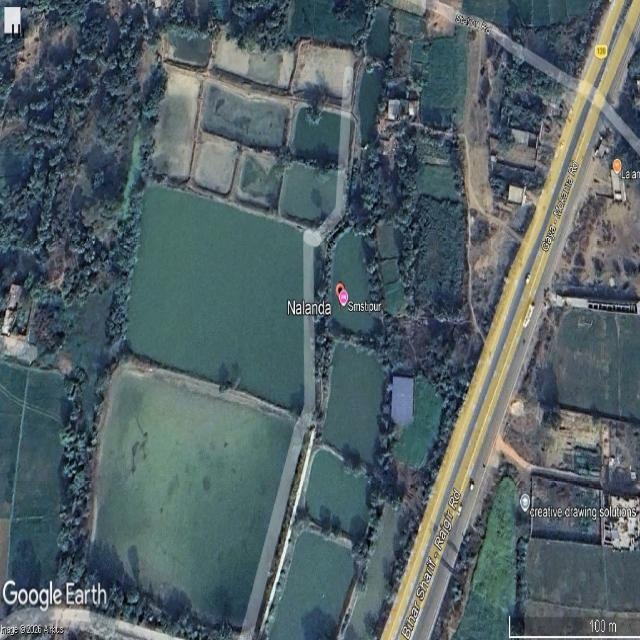objects-ruins-artifacts: (75, 110, 371, 421), (438, 221, 610, 529)
